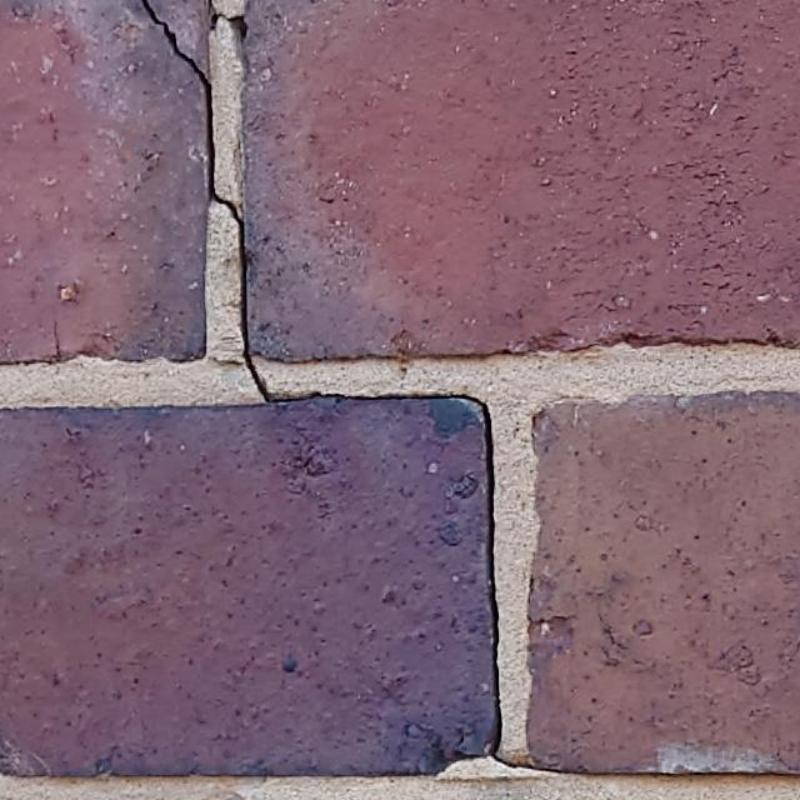pothole: (271, 391, 799, 779), (141, 1, 272, 403), (230, 17, 245, 34), (209, 9, 220, 30)
